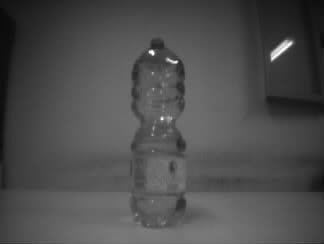Bottle: (129, 37, 189, 229)
